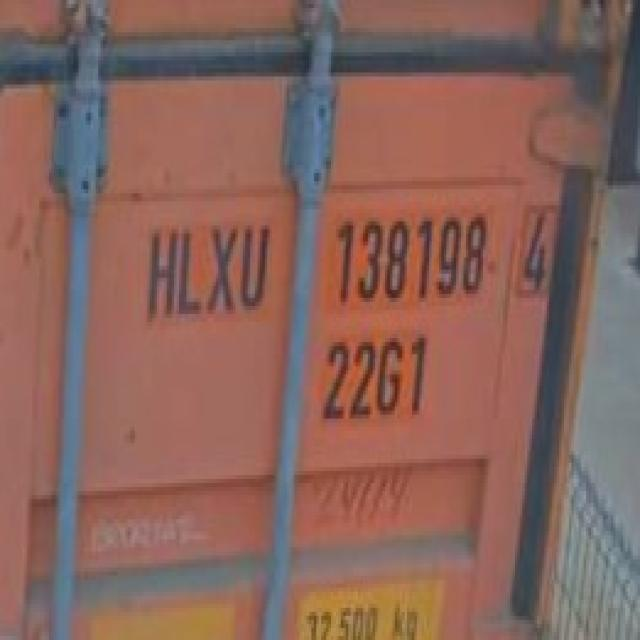dv: (520, 206, 553, 301)
owner: (142, 222, 272, 320)
serial: (330, 210, 489, 308)
size: (314, 329, 430, 427)
